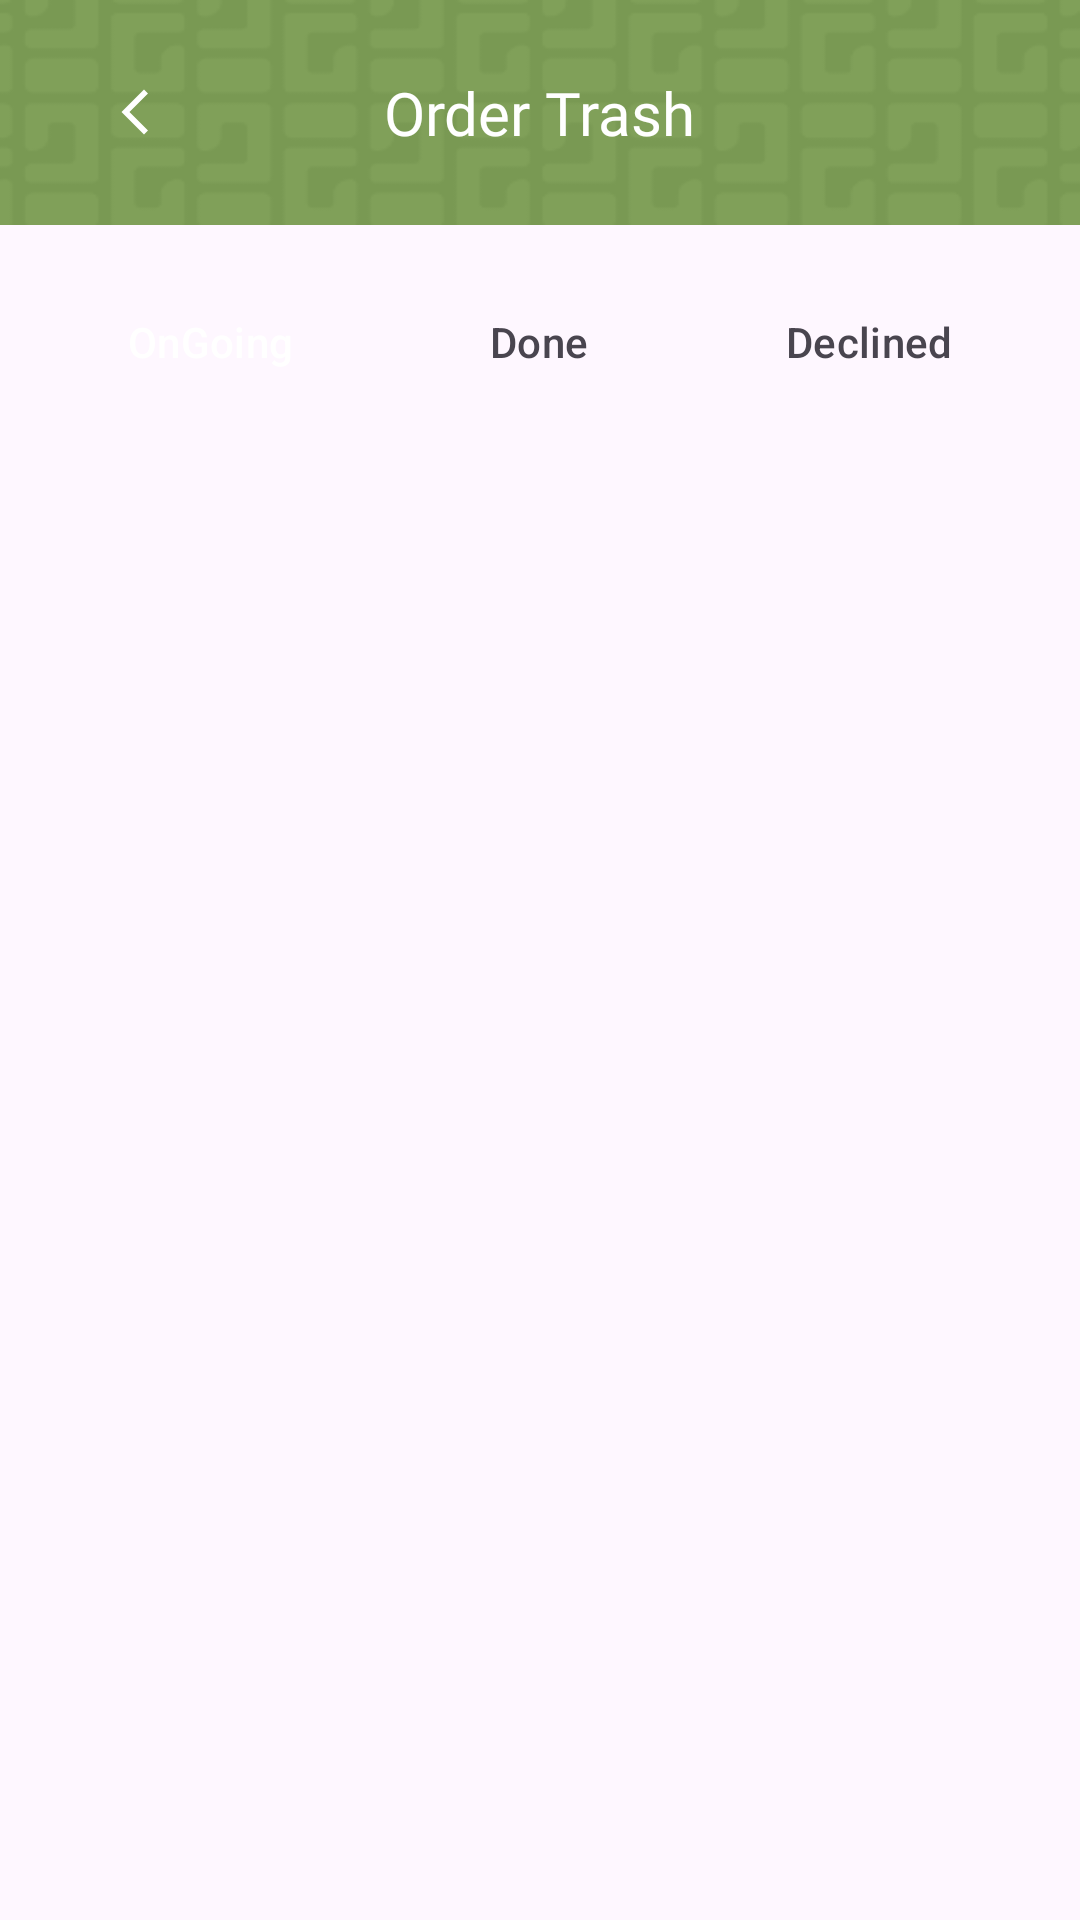

Icons on this 1080px×1920px Android screen, each with the point to tap as [x,y]:
back: [134,112]
